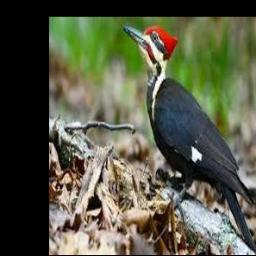Woodpecker: (123, 25, 256, 255)
